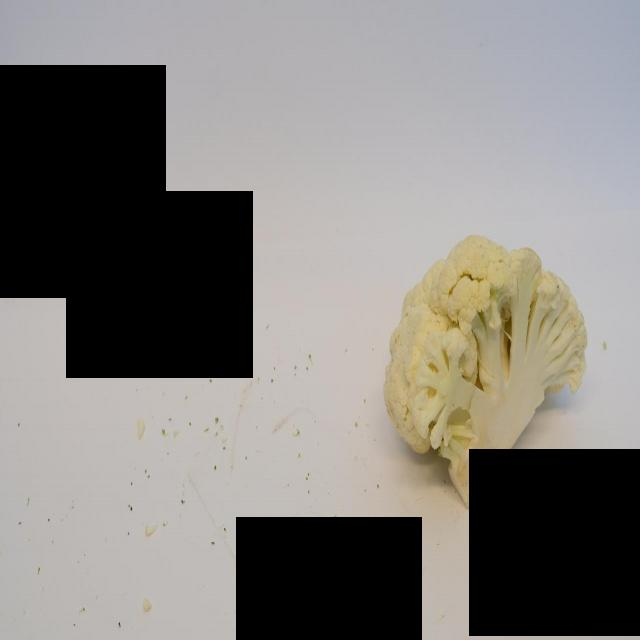cauliflower: (381, 227, 590, 514)
